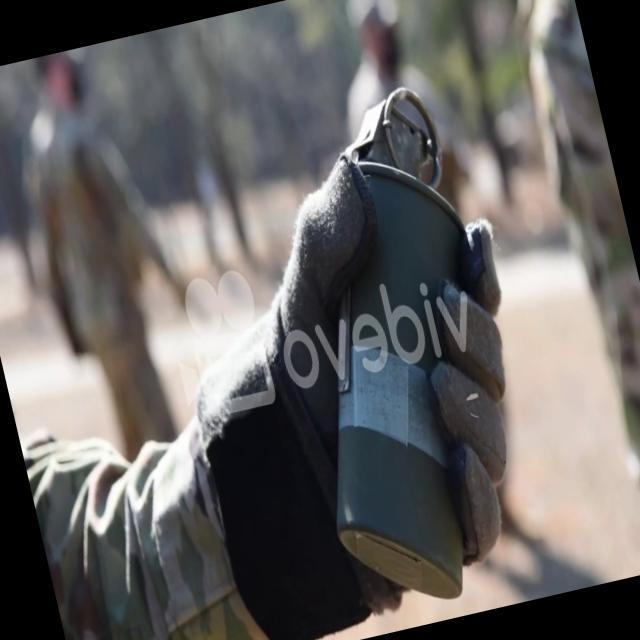grenade: (246, 74, 560, 618)
